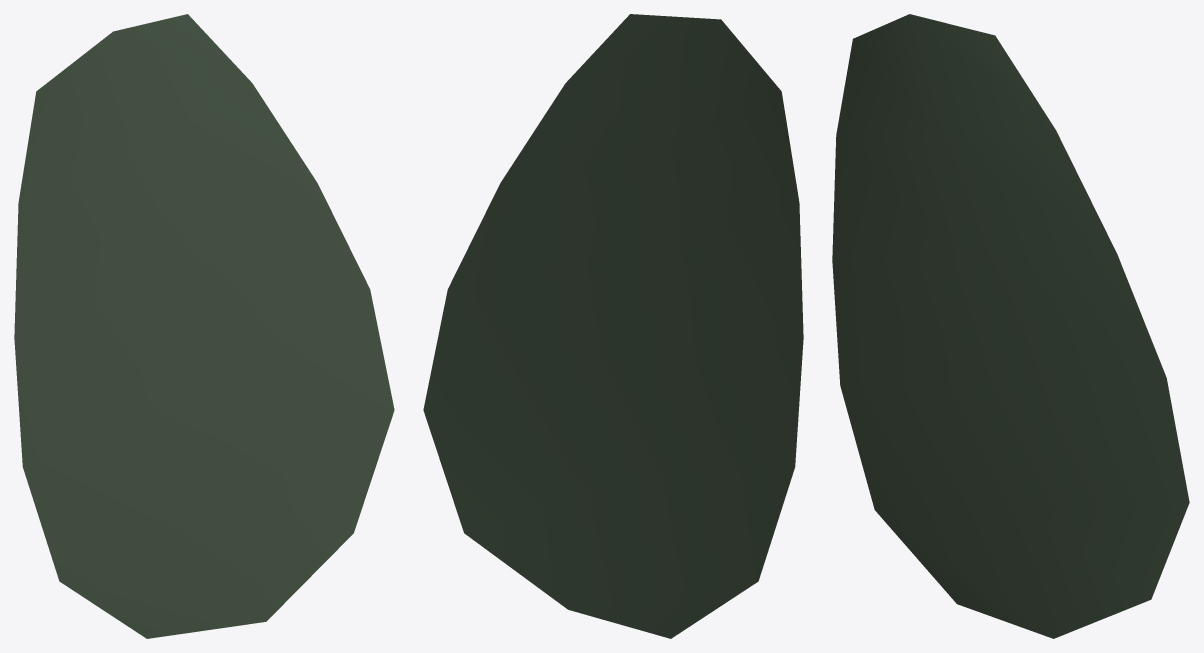
File: duck_feather_flight_tertiary_020.obj
3 views of the same model, side by side, from view 1: azimuth 30°, elevation 25°; view 2: azimuth 150°, elevation 25°; view 3: azimuth 330°, elevation 25° (orthographic). The views are drawn at different scales.
Parts seen in each view (by area): view 1: feather_flight_tertiary_020; view 2: feather_flight_tertiary_020; view 3: feather_flight_tertiary_020.
Part boxes in pixels (x1=…): feather_flight_tertiary_020: x1=14, y1=14, x2=394, y2=638; feather_flight_tertiary_020: x1=423, y1=14, x2=803, y2=638; feather_flight_tertiary_020: x1=832, y1=14, x2=1189, y2=638.
Bounding box in the file's own units: 0.0169 × 0.0266 × 0.000633.
